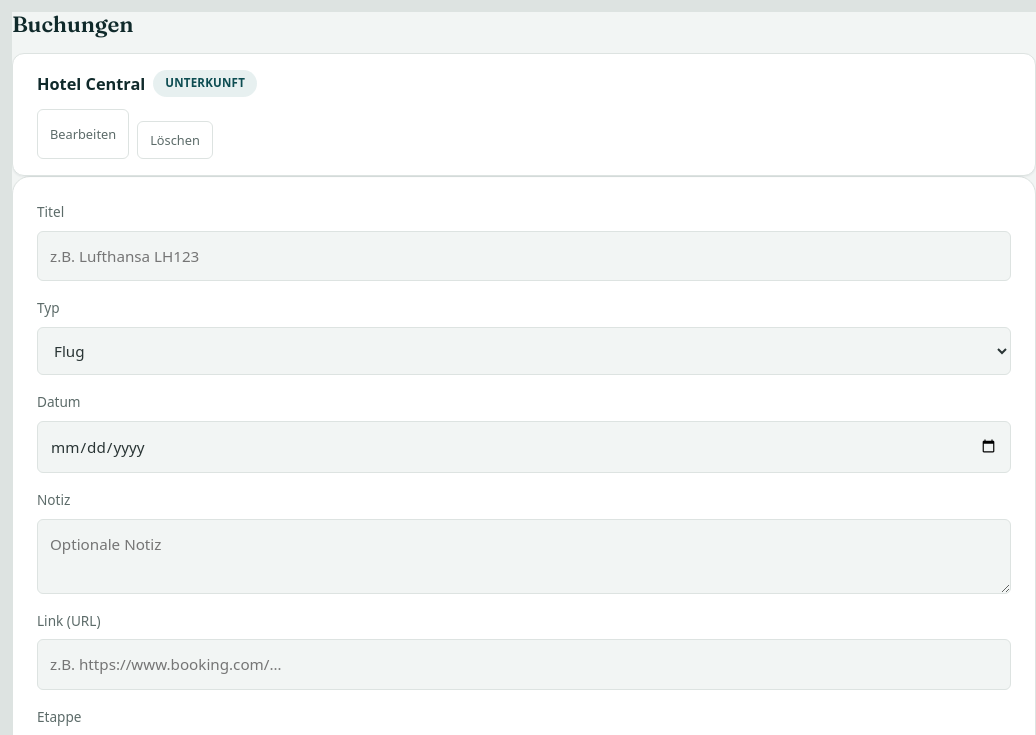
Buchungen loeschen › Nutzerpfad: Loeschen -> Rueckfrage bestaetigen -> Buchung ist weg
This screenshot has width=1036, height=735.
Expected: the text "Hotel Central" is shown, x1=37 y1=71 x2=145 y2=97
Click the button "Löschen". click: (175, 140)
box: x1=137 y1=121 x2=213 y2=159
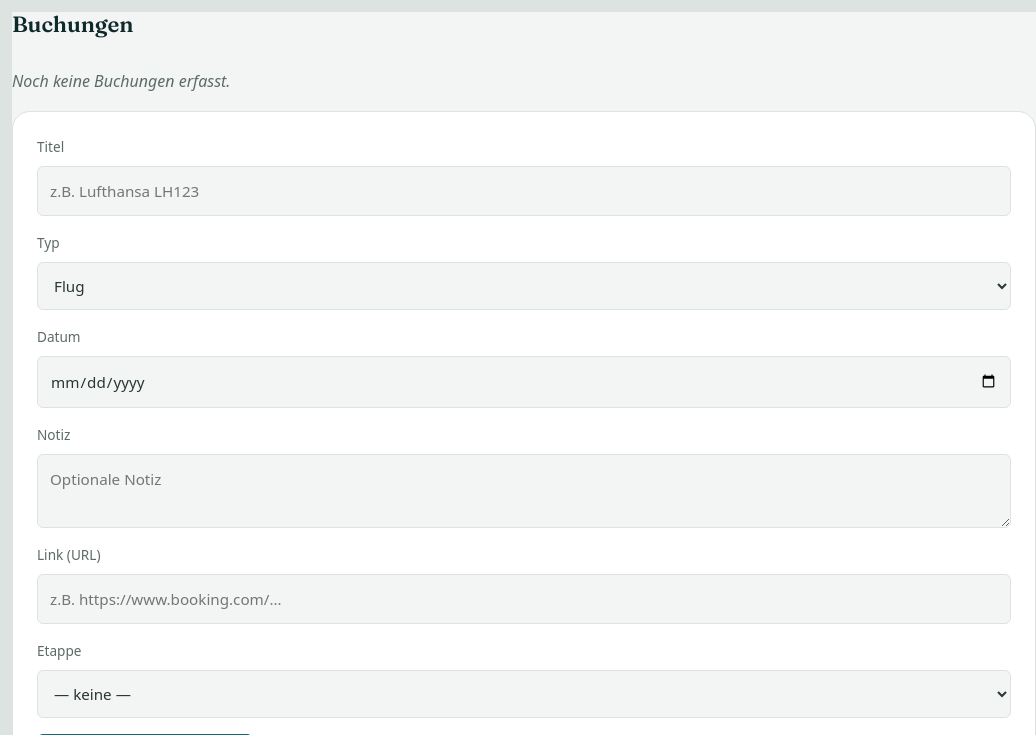
Now the text "Noch keine Buchungen erfasst." is shown, box x1=12 y1=70 x2=230 y2=92
